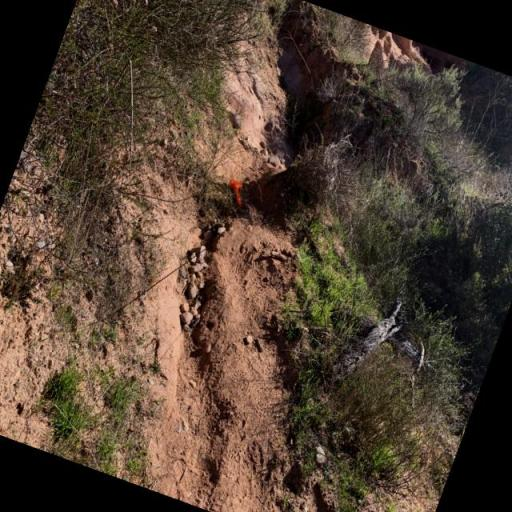mallet: (218, 172, 256, 214)
